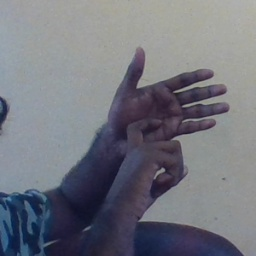R: (101, 44, 233, 182)
